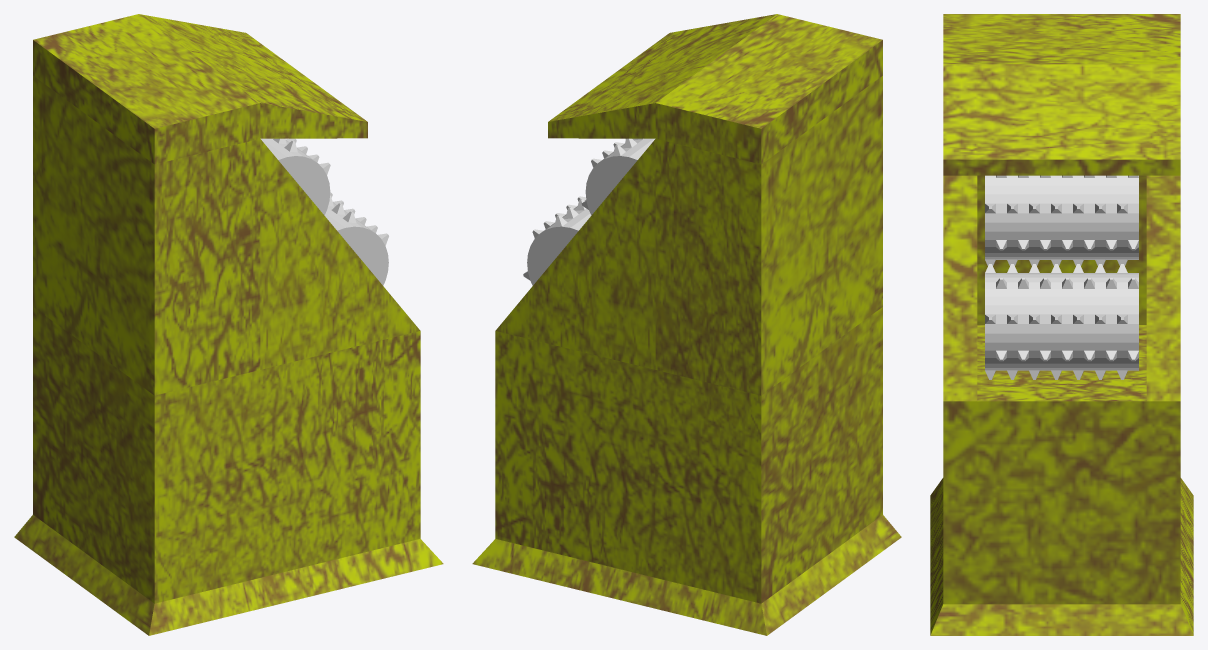
Rendered from rockGrinder2.fbx.
3 views of the same model, side by side, from view 1: azimuth 30°, elevation 25°; view 2: azimuth 150°, elevation 25°; view 3: azimuth 270°, elevation 25° (orthographic). The views are drawn at different scales.
Visible parts, largest first — view 1: Base, BottomBlade, TopBlade; view 2: Base, BottomBlade, TopBlade; view 3: Base, BottomBlade, TopBlade.
Part boxes in pixels (x1,y1,x2,y2): Base: (14, 14, 443, 635); BottomBlade: (324, 192, 388, 285); TopBlade: (260, 138, 330, 215); Base: (472, 14, 901, 635); BottomBlade: (523, 196, 591, 285); TopBlade: (581, 138, 655, 215); Base: (930, 14, 1193, 635); BottomBlade: (985, 264, 1138, 379); TopBlade: (985, 175, 1138, 265).
Bounding box in the file's own units: 549 × 888 × 435.
